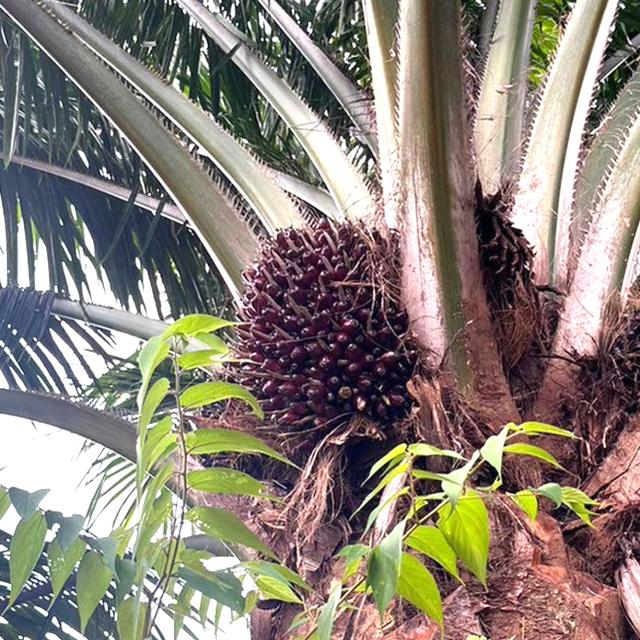ripe: (210, 201, 454, 452)
